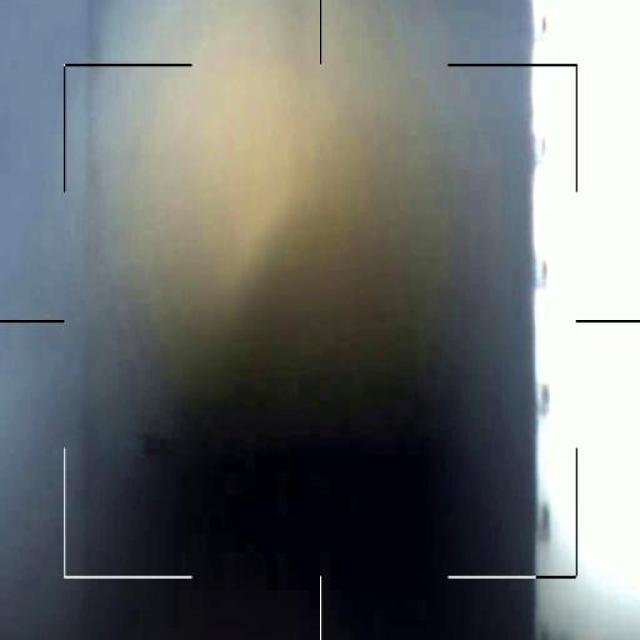bird: (139, 420, 190, 466)
